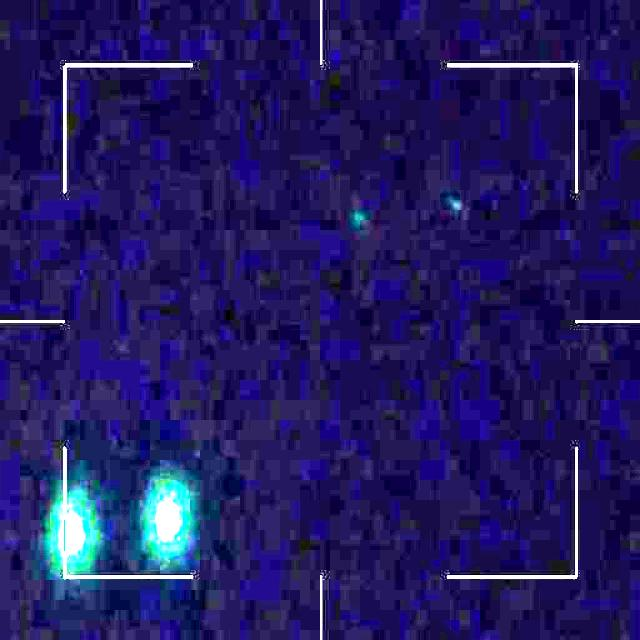bird: (52, 486, 184, 564)
